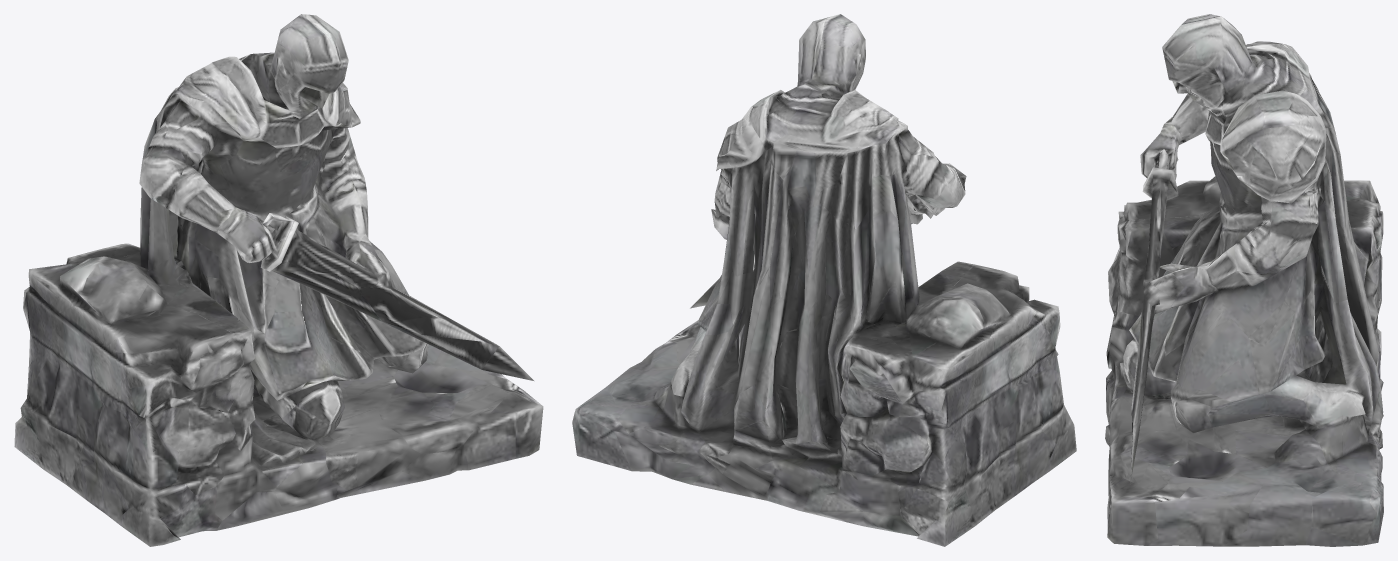
Rendered from prop-knight.glb.
The picture shows the model from 3 angles, left to right: view 1: azimuth 30°, elevation 25°; view 2: azimuth 150°, elevation 25°; view 3: azimuth 270°, elevation 25°; orthographic projection. The views are drawn at different scales.
Size of the model in its own units: 1.69 by 1.79 by 1.03.
1 material, 1 textured.
